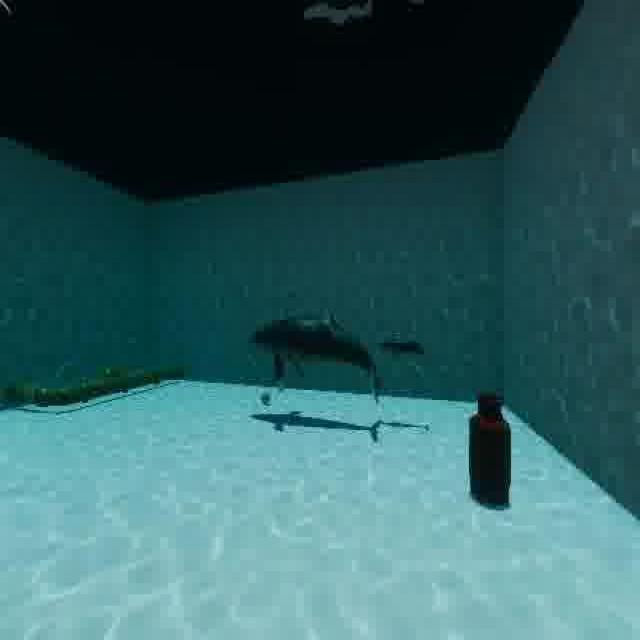Cylinder: (452, 354, 525, 542)
Pipe: (2, 343, 193, 413)
Whale: (242, 290, 384, 418), (375, 322, 430, 364)
